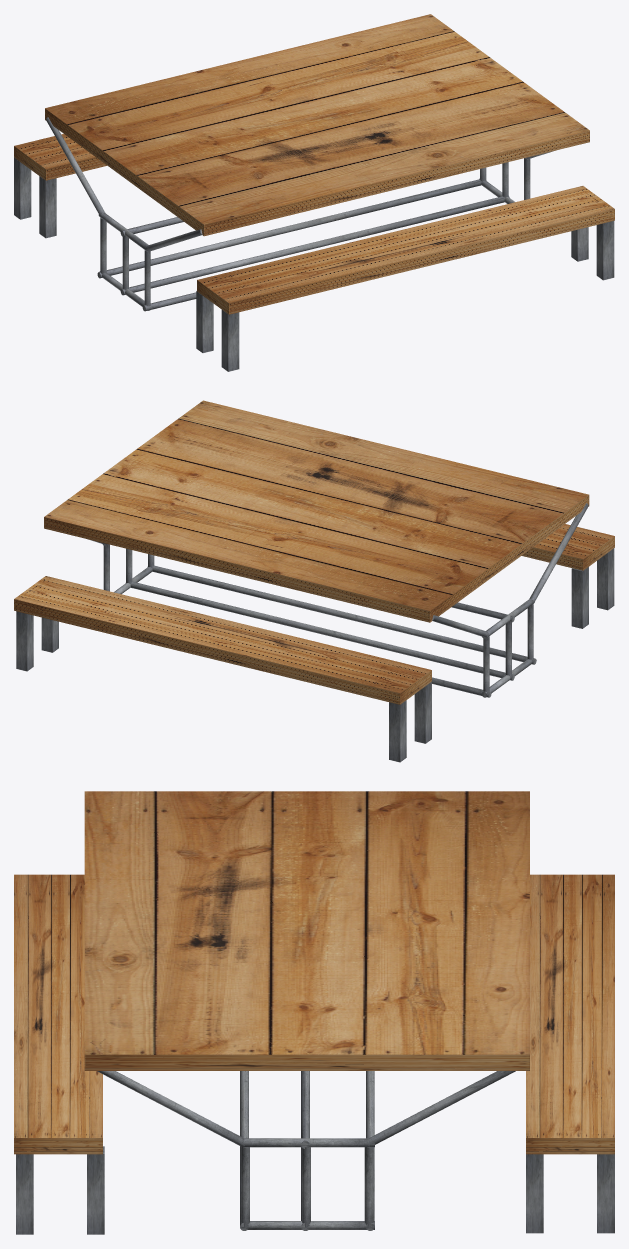
The model's file is caferia table.FBX.
The picture shows the model from 3 angles, top to bottom: view 1: azimuth 30°, elevation 25°; view 2: azimuth 150°, elevation 25°; view 3: azimuth 270°, elevation 25°; orthographic projection. The views are drawn at different scales.
Visible parts, largest first — view 1: tabletop, seats, Box001, Object001; view 2: tabletop, seats, Box001, Object001; view 3: tabletop, seats, Box001, Object001.
Part boxes in pixels (x1,y1,x2,y2): tabletop: (45,14,589,236); seats: (14,134,614,314); Box001: (46,117,553,311); Object001: (14,157,614,371); tabletop: (44,400,589,622); seats: (14,524,614,704); Box001: (88,503,588,697); Object001: (16,548,614,762); tabletop: (84,791,529,1070); seats: (14,874,614,1154); Box001: (97,1071,515,1230); Object001: (16,1146,614,1234).
Bounding box in the file's own units: 70.51 × 22.34 × 67.49.
Materials: 2 (2 with a texture image).
